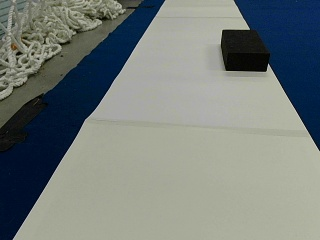block: (220, 29, 270, 72)
